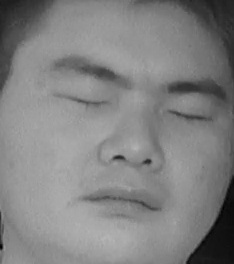blink: (54, 80, 108, 117), (169, 96, 213, 130)
mouth: (79, 177, 164, 224)
